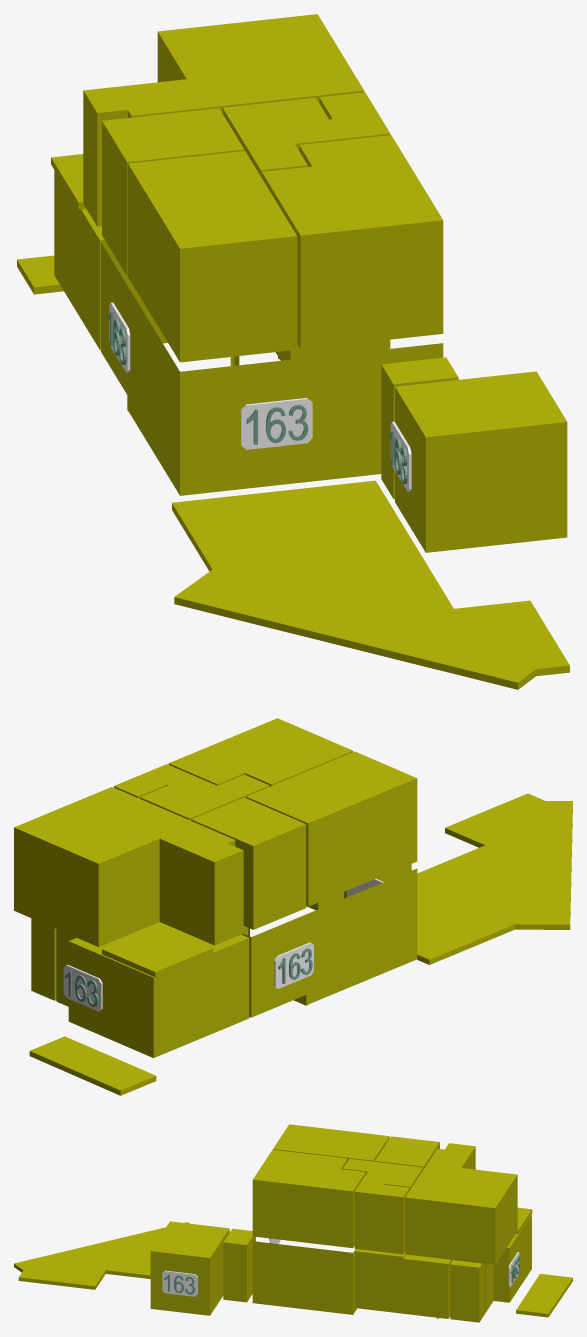
3 views of the same model, one above another, from view 1: azimuth 30°, elevation 25°; view 2: azimuth 150°, elevation 25°; view 3: azimuth 270°, elevation 25° (orthographic). The views are drawn at different scales.
Visible parts, largest first — view 1: g_12, g_3, g_7, g_6, g_0, g_11, g_9, g_2, g_8, g_1, g_18, g_10 (+3 smaller); view 2: g_11, g_12, g_7, g_2, g_3, g_9, g_6, g_13, g_14, g_8, g_5, g_10 (+3 smaller); view 3: g_11, g_6, g_3, g_4, g_0, g_12, g_10, g_7, g_5, g_1, g_2, g_13 (+3 smaller).
Part boxes in pixels (x1=…): g_12: x1=172, y1=480, x2=569, y2=689; g_3: x1=101, y1=242, x2=443, y2=495; g_7: x1=128, y1=151, x2=297, y2=362; g_6: x1=261, y1=135, x2=443, y2=349; g_0: x1=395, y1=371, x2=567, y2=552; g_11: x1=83, y1=14, x2=364, y2=226; g_9: x1=102, y1=108, x2=244, y2=276; g_2: x1=54, y1=170, x2=167, y2=350; g_8: x1=222, y1=97, x2=337, y2=177; g_1: x1=381, y1=357, x2=458, y2=499; g_18: x1=241, y1=398, x2=312, y2=449; g_10: x1=319, y1=92, x2=390, y2=140; g_11: x1=14, y1=787, x2=243, y2=946; g_12: x1=417, y1=793, x2=572, y2=964; g_7: x1=246, y1=751, x2=417, y2=906; g_2: x1=68, y1=922, x2=249, y2=1057; g_3: x1=241, y1=868, x2=417, y2=1017; g_9: x1=191, y1=797, x2=306, y2=929; g_6: x1=168, y1=718, x2=353, y2=786; g_13: x1=29, y1=1036, x2=156, y2=1095; g_14: x1=102, y1=925, x2=213, y2=977; g_8: x1=140, y1=774, x2=269, y2=820; g_5: x1=31, y1=918, x2=56, y2=1000; g_10: x1=114, y1=764, x2=194, y2=798; g_11: x1=405, y1=1143, x2=517, y2=1264; g_6: x1=252, y1=1149, x2=365, y2=1248; g_3: x1=252, y1=1241, x2=356, y2=1314; g_4: x1=355, y1=1249, x2=493, y2=1318; g_0: x1=150, y1=1221, x2=229, y2=1315; g_12: x1=14, y1=1222, x2=189, y2=1289; g_10: x1=354, y1=1180, x2=409, y2=1254; g_7: x1=273, y1=1124, x2=389, y2=1161; g_5: x1=450, y1=1260, x2=485, y2=1322; g_1: x1=223, y1=1228, x2=255, y2=1302; g_2: x1=493, y1=1214, x2=531, y2=1302; g_13: x1=516, y1=1273, x2=572, y2=1317.
Size of the model in its own units: 9.91 by 5.35 by 21.27.
